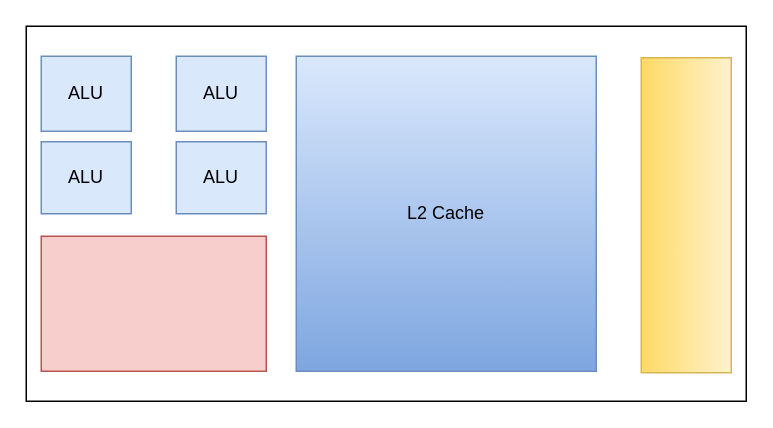
Image size: 773x428. Some labels were removed from this diagram. Each missing label, with the centre of its shape:
"Control" goes at point (153, 303).
"DRAM" goes at point (685, 214).
